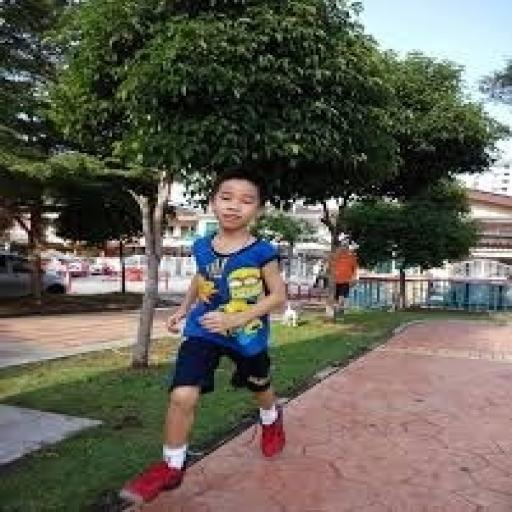running: (110, 165, 296, 510)
